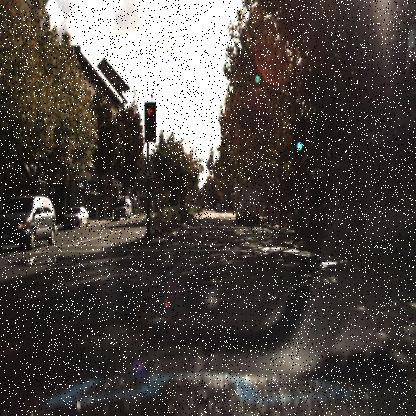car: (1, 192, 57, 252), (240, 181, 262, 227), (62, 204, 91, 232), (110, 193, 132, 224)
trafficLight: (252, 54, 262, 90)
trafficLight-Green: (293, 123, 305, 158), (252, 59, 262, 90)
trafficLight-RedLeft: (144, 100, 156, 142), (144, 100, 154, 140)
truck: (238, 179, 262, 226)
